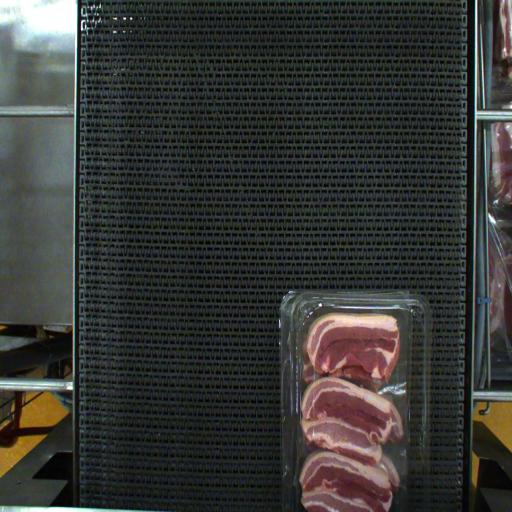unsealed: (284, 300, 422, 508)
